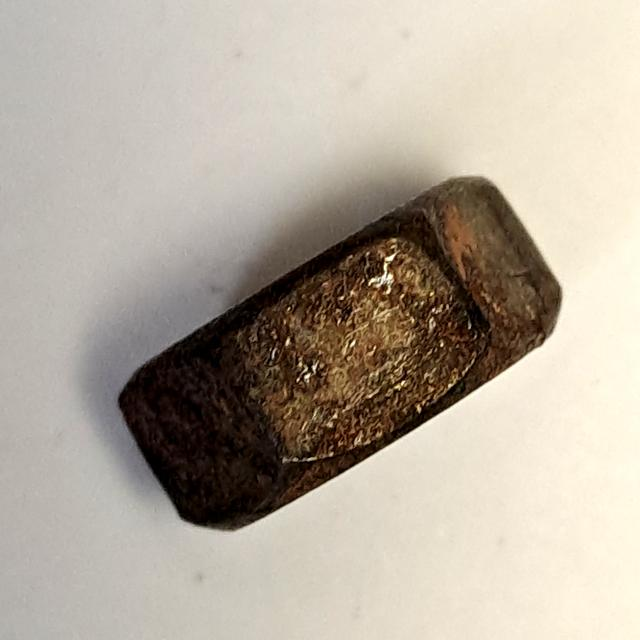Side_Rust: (100, 158, 576, 550)
